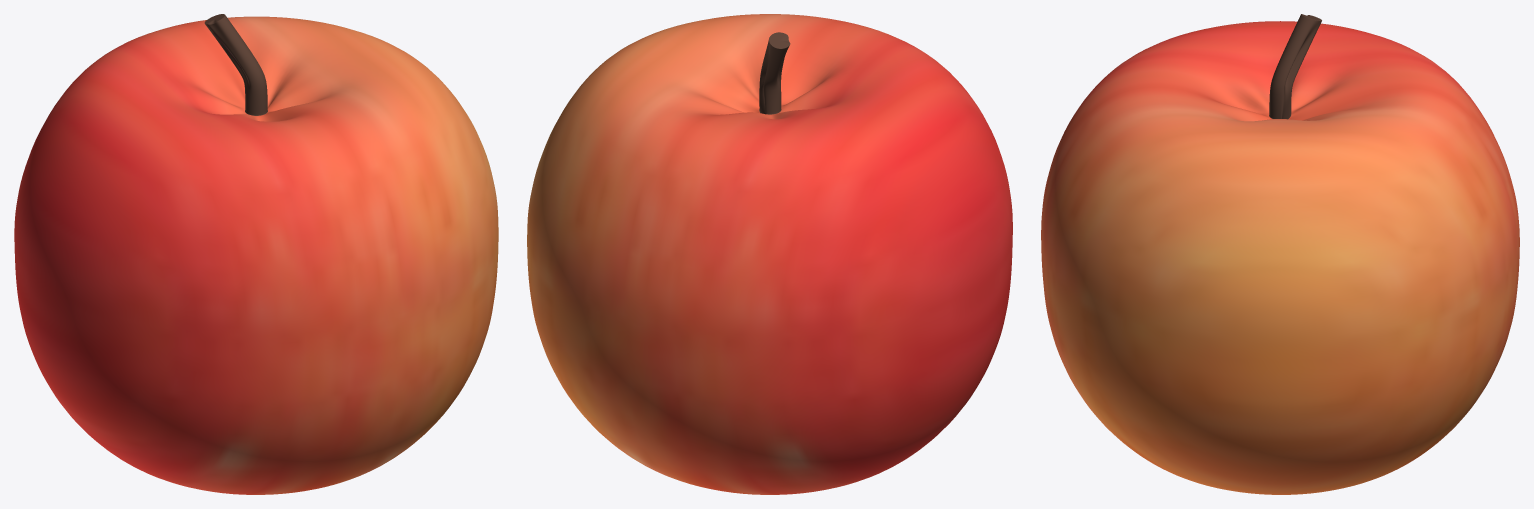
Rendered from Red_Apple2.fbx.
3 renders of one model, left to right at view 1: azimuth 30°, elevation 25°; view 2: azimuth 150°, elevation 25°; view 3: azimuth 270°, elevation 25°, orthographic.
Visible parts, largest first — view 1: Red_Apple1; view 2: Red_Apple1; view 3: Red_Apple1.
Boxes of the visible parts, bbox=[...] form: Red_Apple1: bbox=[14, 14, 498, 494]; Red_Apple1: bbox=[527, 14, 1012, 494]; Red_Apple1: bbox=[1041, 14, 1519, 494].
Size of the model in its own units: 1.66 by 1.63 by 1.66.
Materials: 3 (2 with a texture image).
